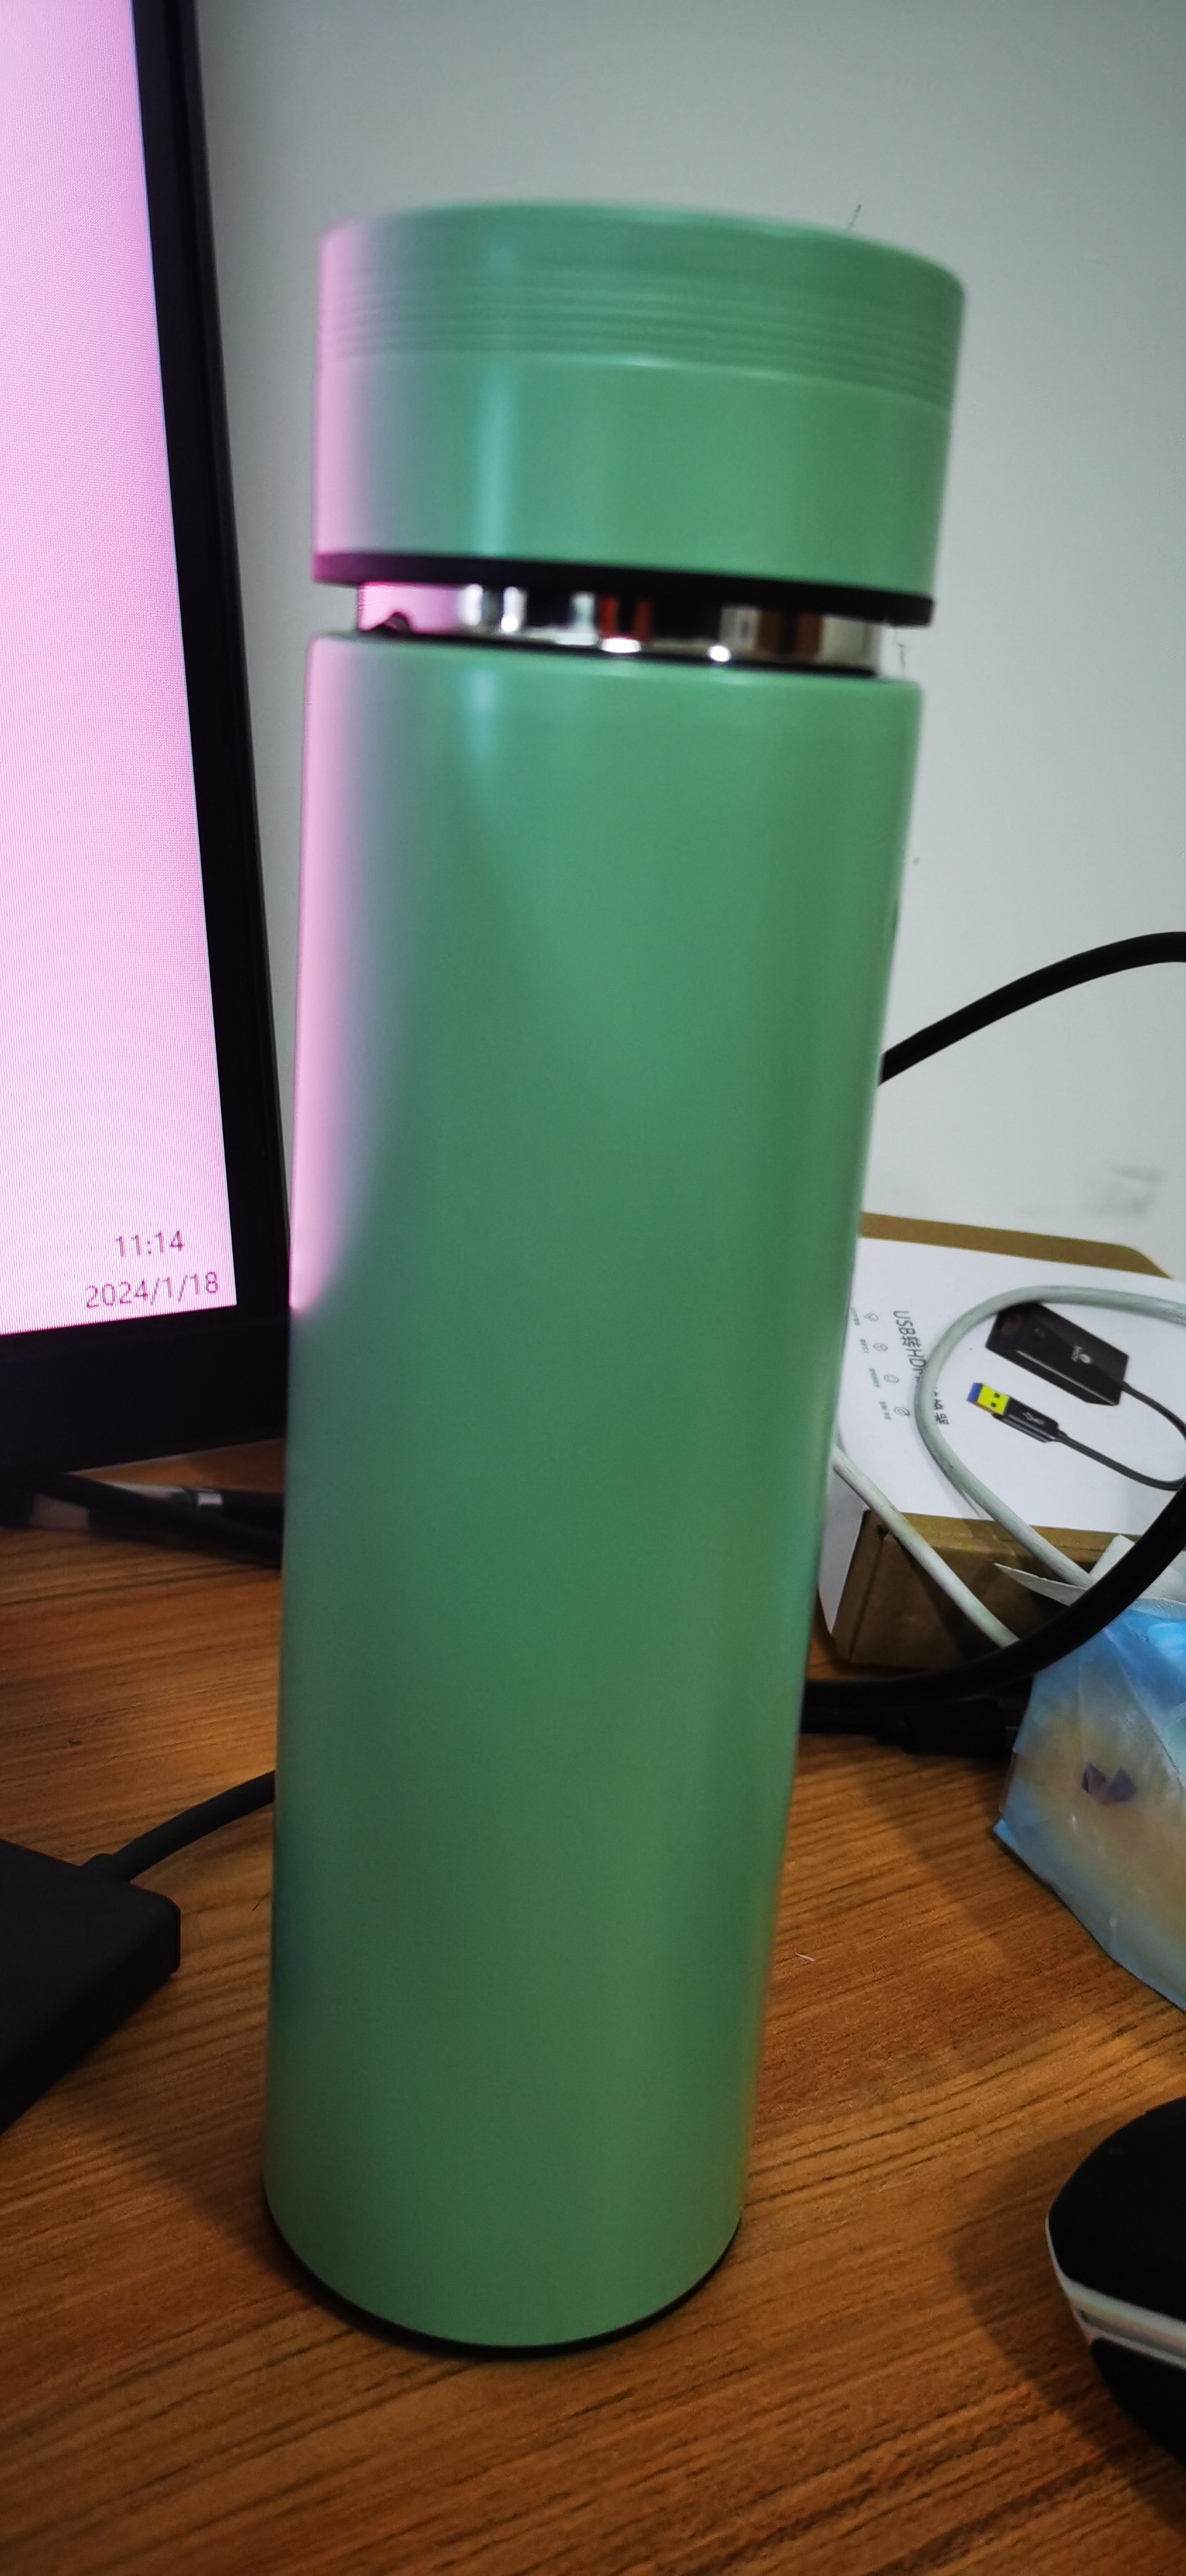cup: (246, 181, 830, 2364)
